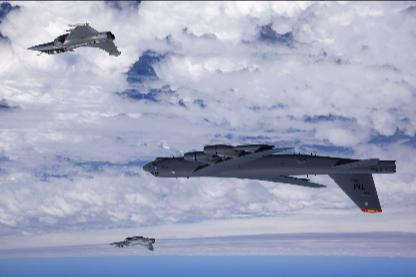B2: (143, 145, 396, 213)
Mirage2000: (107, 236, 154, 252)
RQ4: (26, 22, 120, 56)
